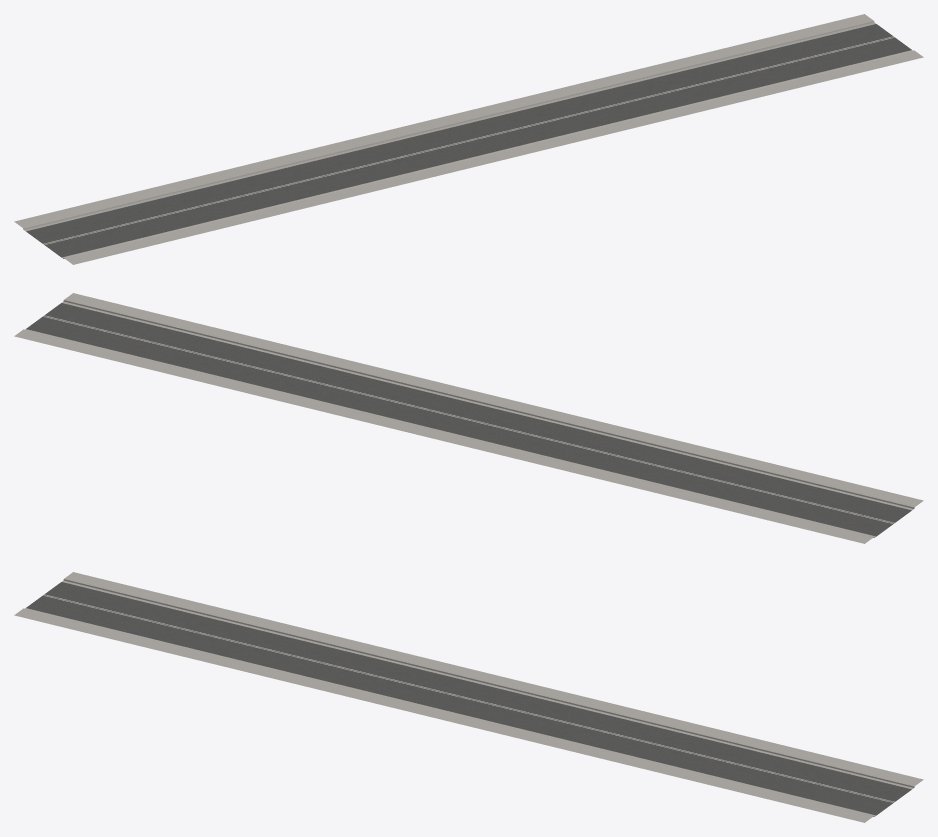
The model's file is sim3dRoad.fbx.
3 renders of one model, top to bottom at view 1: azimuth 30°, elevation 25°; view 2: azimuth 150°, elevation 25°; view 3: azimuth 330°, elevation 25°, orthographic.
Visible parts, largest first — view 1: Roads_Road_Layer0Node, Roads_Sidewalk_Layer0Node, Roads_Curb_Layer0Node, Roads_Gutter_Layer0Node, Roads_Marking_Layer0Node; view 2: Roads_Road_Layer0Node, Roads_Sidewalk_Layer0Node, Roads_Curb_Layer0Node, Roads_Gutter_Layer0Node, Roads_Marking_Layer0Node; view 3: Roads_Road_Layer0Node, Roads_Sidewalk_Layer0Node, Roads_Curb_Layer0Node, Roads_Gutter_Layer0Node, Roads_Marking_Layer0Node.
Part boxes in pixels (box(x1,y1,x2,y2)): Roads_Road_Layer0Node: box(26, 24, 911, 257); Roads_Sidewalk_Layer0Node: box(14, 14, 923, 264); Roads_Curb_Layer0Node: box(23, 20, 914, 258); Roads_Gutter_Layer0Node: box(24, 22, 912, 258); Roads_Marking_Layer0Node: box(43, 36, 894, 244); Roads_Road_Layer0Node: box(26, 303, 911, 536); Roads_Sidewalk_Layer0Node: box(14, 293, 923, 543); Roads_Curb_Layer0Node: box(23, 299, 914, 537); Roads_Gutter_Layer0Node: box(25, 301, 913, 537); Roads_Marking_Layer0Node: box(43, 315, 894, 523); Roads_Road_Layer0Node: box(26, 582, 911, 815); Roads_Sidewalk_Layer0Node: box(14, 572, 923, 822); Roads_Curb_Layer0Node: box(23, 578, 914, 816); Roads_Gutter_Layer0Node: box(25, 580, 913, 816); Roads_Marking_Layer0Node: box(43, 594, 894, 802).
Size of the model in its own units: 110 by 13.27 by 0.1727.
5 materials, 5 textured.
